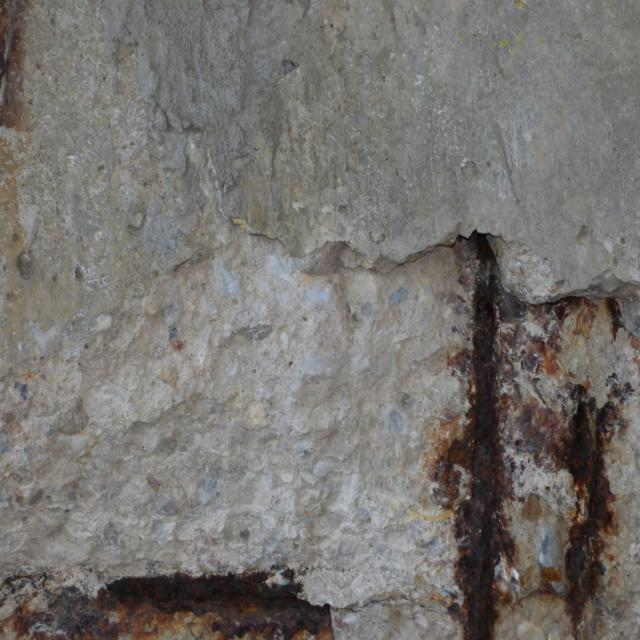corrosion: (414, 222, 640, 640), (0, 543, 357, 640), (0, 0, 66, 295)
